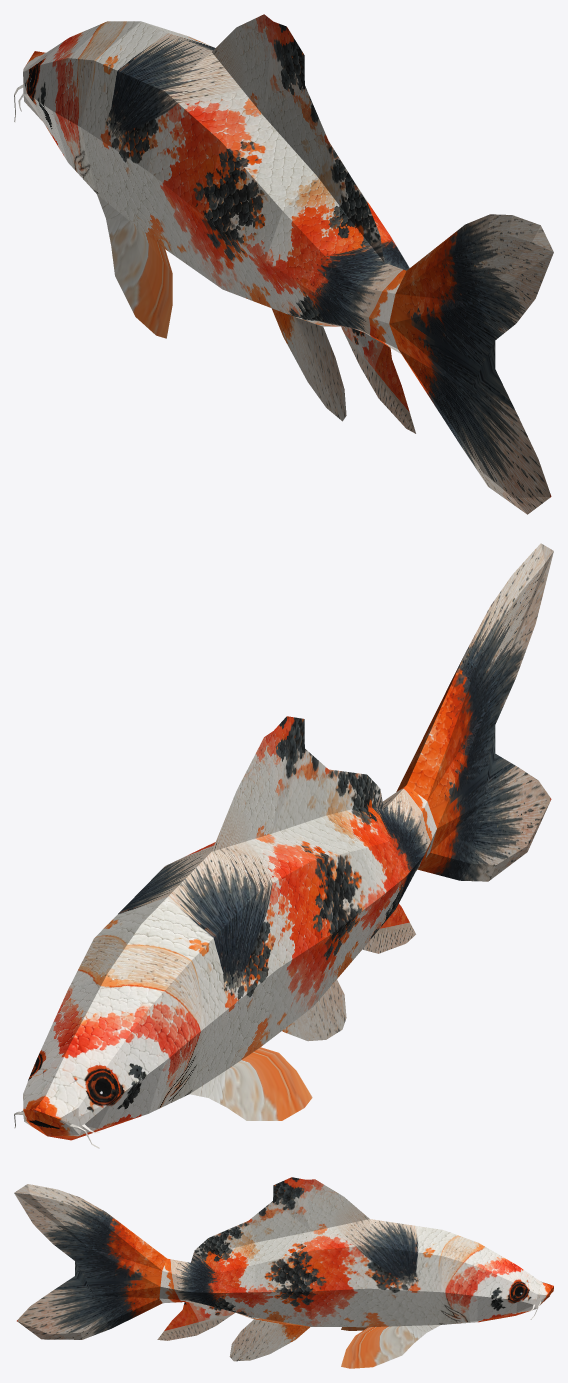
The model's file is Fish1.fbx.
3 renders of one model, top to bottom at view 1: azimuth 30°, elevation 25°; view 2: azimuth 150°, elevation 25°; view 3: azimuth 270°, elevation 25°, orthographic. The views are drawn at different scales.
Parts seen in each view (by area): view 1: Fish; view 2: Fish; view 3: Fish.
Boxes of the visible parts, x1,y1,x2,y2 form: Fish: (14, 14, 553, 514); Fish: (14, 543, 553, 1148); Fish: (14, 1177, 553, 1368).
Size of the model in its own units: 15.51 by 35.35 by 93.92.
Materials: 1 (1 with a texture image).
